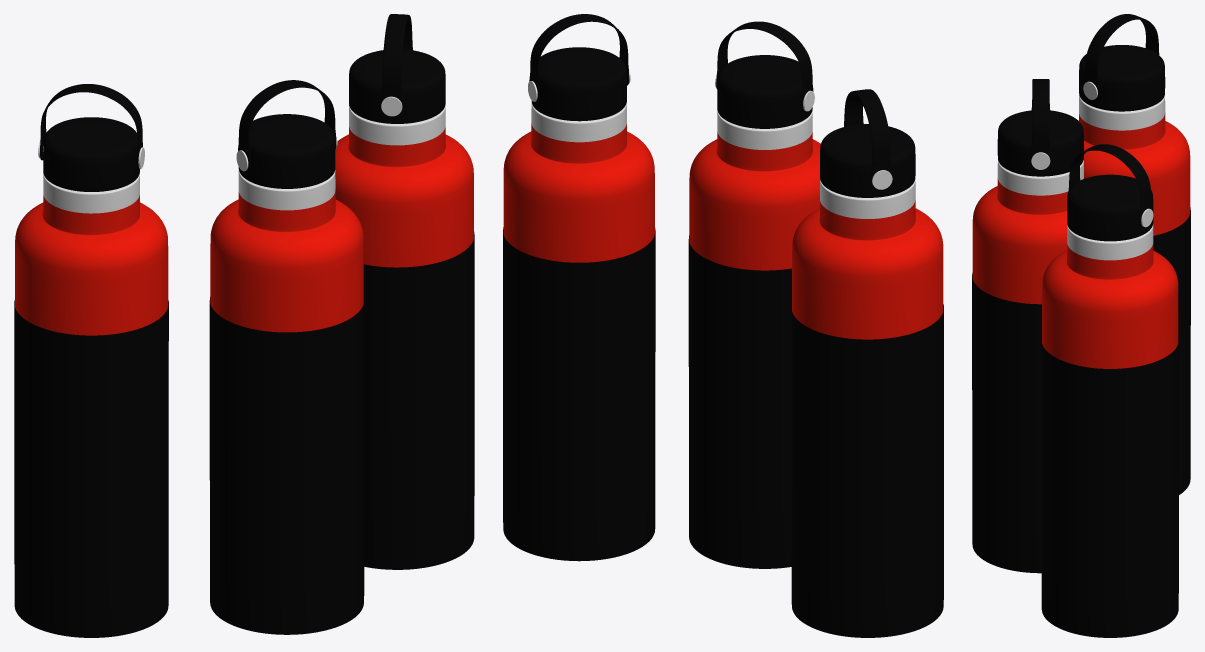
The model's file is Steel A-6.glb.
The picture shows the model from 3 angles, left to right: view 1: azimuth 30°, elevation 25°; view 2: azimuth 150°, elevation 25°; view 3: azimuth 270°, elevation 25°; orthographic projection. The views are drawn at different scales.
Visible parts, largest first — view 1: Circle.011, Circle.009, Circle.014, Circle, Circle.002, Circle.012; view 2: Circle.009, Circle.014, Circle.011, Circle.012, Circle, Circle.002; view 3: Circle.014, Circle.012, Circle.011, Circle.002, Circle, Circle.009.
Part boxes in pixels (x1,y1,x2,y2): Circle.011: (209,296,364,634); Circle.009: (14,300,168,637); Circle.014: (363,232,474,569); Circle: (15,84,168,335); Circle.002: (210,80,363,332); Circle.012: (335,14,473,267); Circle.009: (791,304,943,637); Circle.014: (503,227,655,561); Circle.011: (688,235,791,568); Circle.012: (503,14,654,262); Circle: (792,89,943,339); Circle.002: (689,21,820,270); Circle.014: (1041,337,1178,637); Circle.012: (1042,144,1178,368); Circle.011: (972,273,1041,573); Circle.002: (972,79,1083,304); Circle: (1079,14,1190,235); Circle.009: (1153,207,1190,494).
Bounding box in the file's own units: 6.47 × 7.4 × 3.18.
4 materials, 1 textured.
